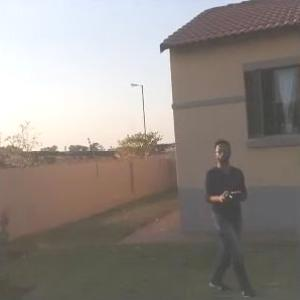follow: (196, 132, 259, 299)
